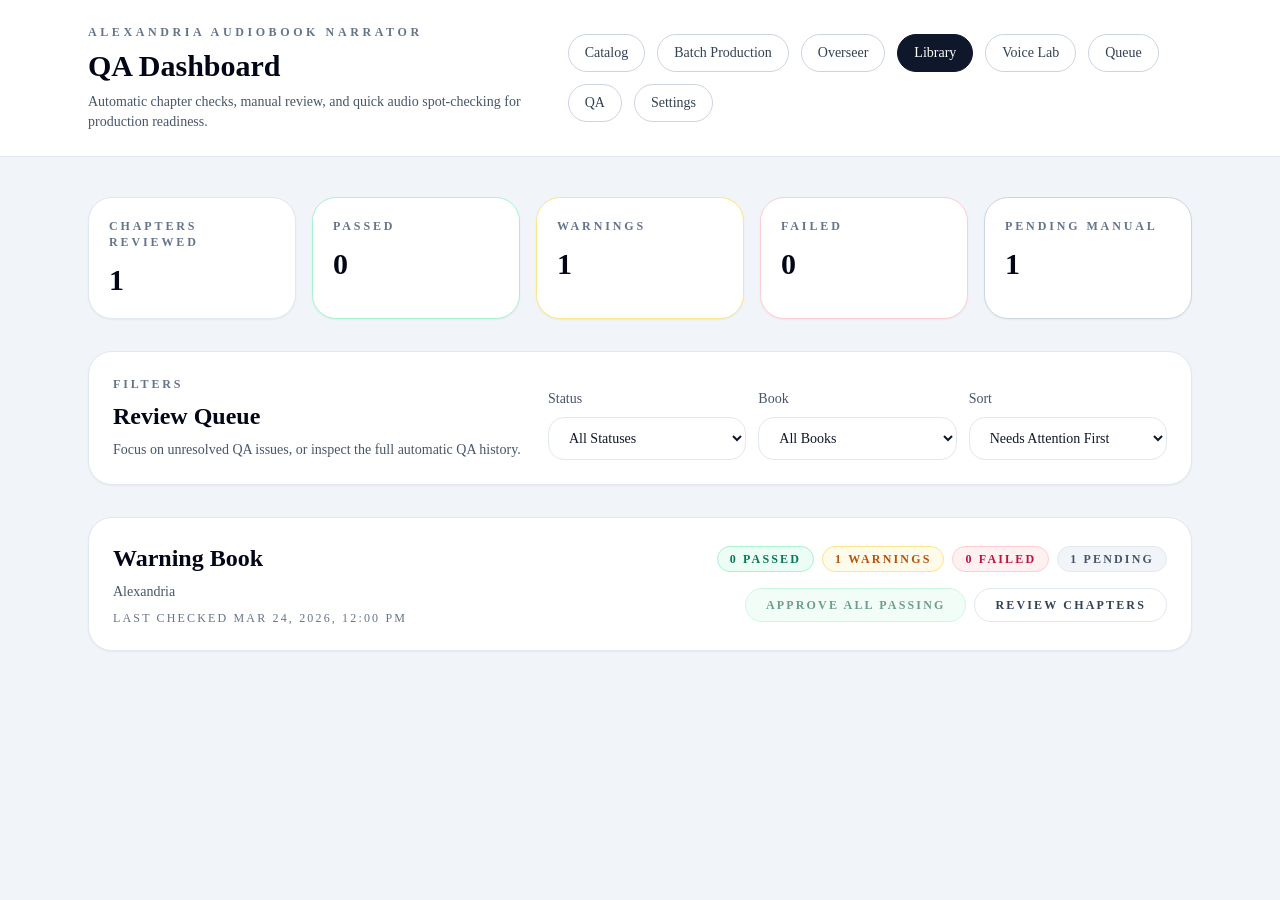
Test: QA dashboard page › approves a chapter and refreshes the dashboard state
This screenshot has width=1280, height=900.
What coordinates should you click on to do the following:
click the button "Review Chapters"
I would click on:
 (1071, 605)
Its box is x1=974 y1=588 x2=1167 y2=622.
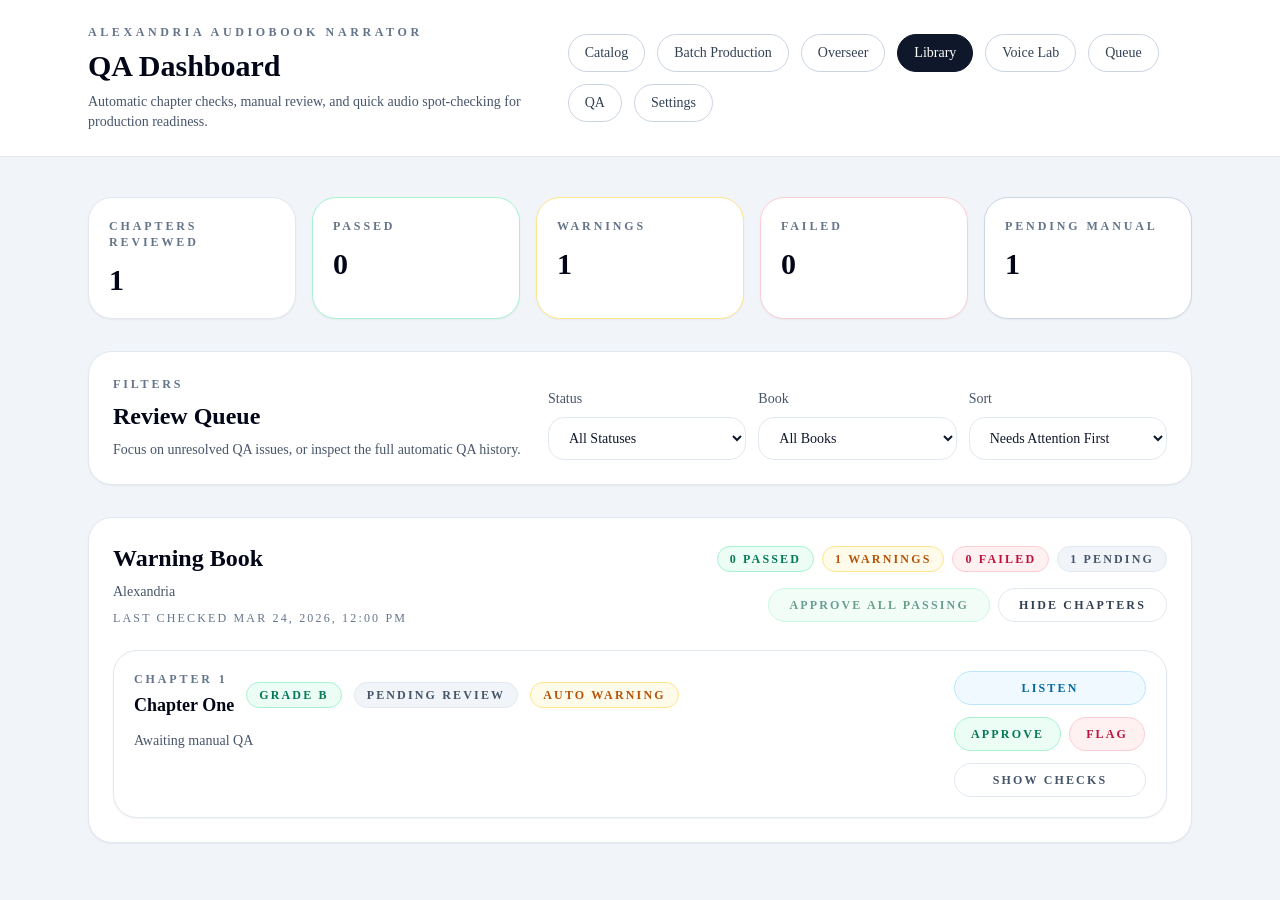
Expected: the text "Approve" is shown, x1=768 y1=588 x2=990 y2=622
What coordinates should you click on to do the following:
click the button "Approve"
I would click on:
 (1008, 734)
Its box is x1=954 y1=717 x2=1061 y2=751.
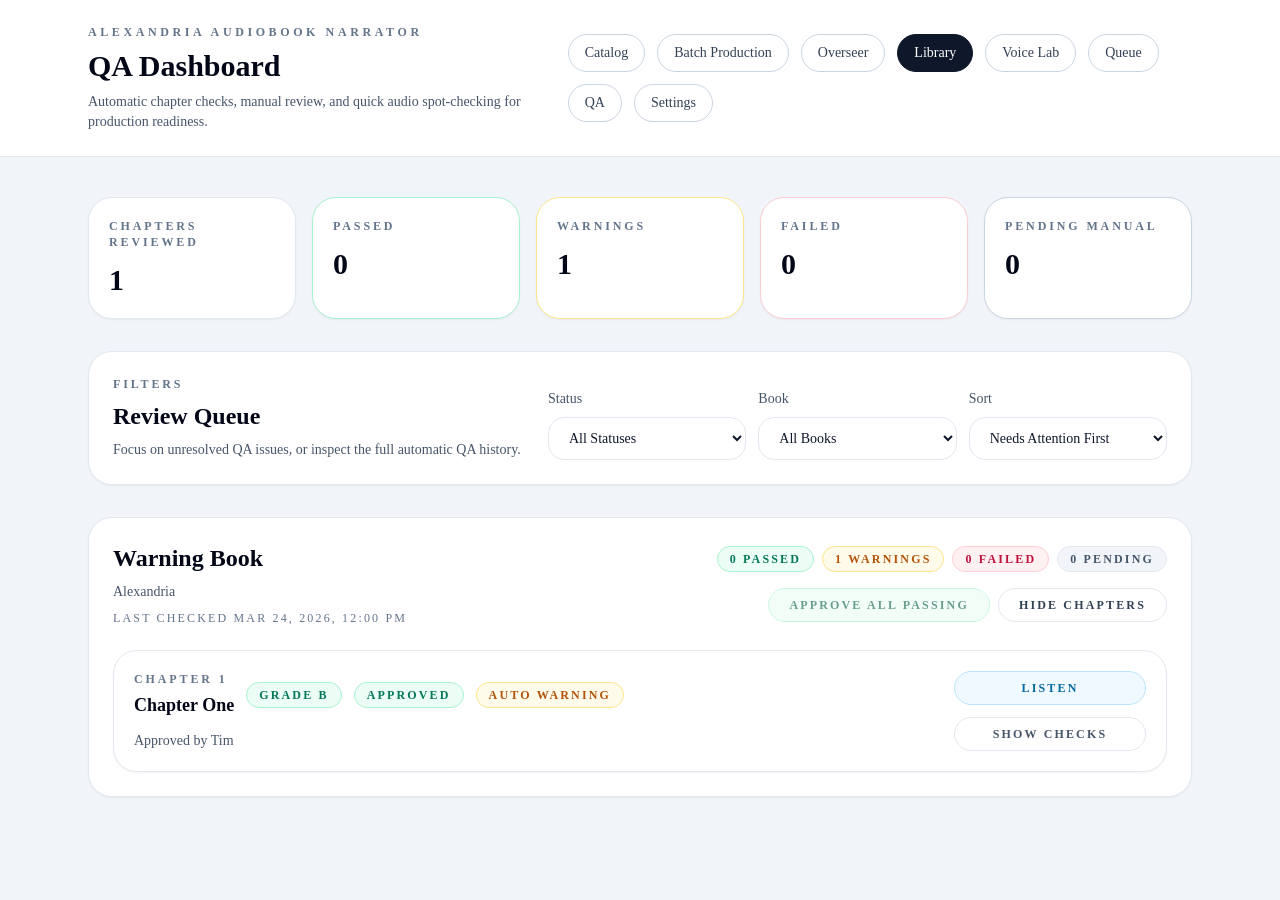
Now the text "Approved by Tim" is shown, box x1=134 y1=733 x2=234 y2=748
